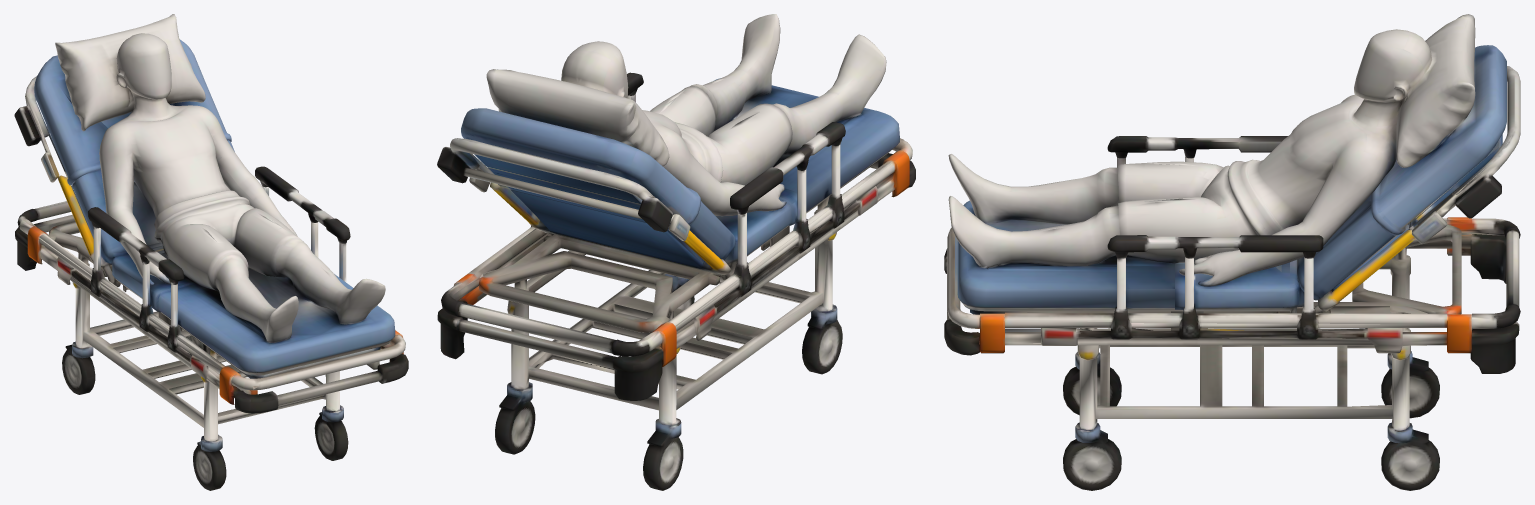
Rendered from Medical__medical_stretcher_realistic_style_d2c30a1f_v3.cluster.glb.
3 views of the same model, side by side, from view 1: azimuth 30°, elevation 25°; view 2: azimuth 150°, elevation 25°; view 3: azimuth 270°, elevation 25° (orthographic). The views are drawn at different scales.
Parts seen in each view (by area): view 1: mesh_input; view 2: mesh_input; view 3: mesh_input.
Part boxes in pixels (x1,y1,x2,y2): mesh_input: (14, 14, 408, 490); mesh_input: (437, 14, 915, 490); mesh_input: (944, 14, 1520, 490).
Bounding box in the file's own units: 0.832 × 1.53 × 1.9.
Materials: 1 (1 with a texture image).
